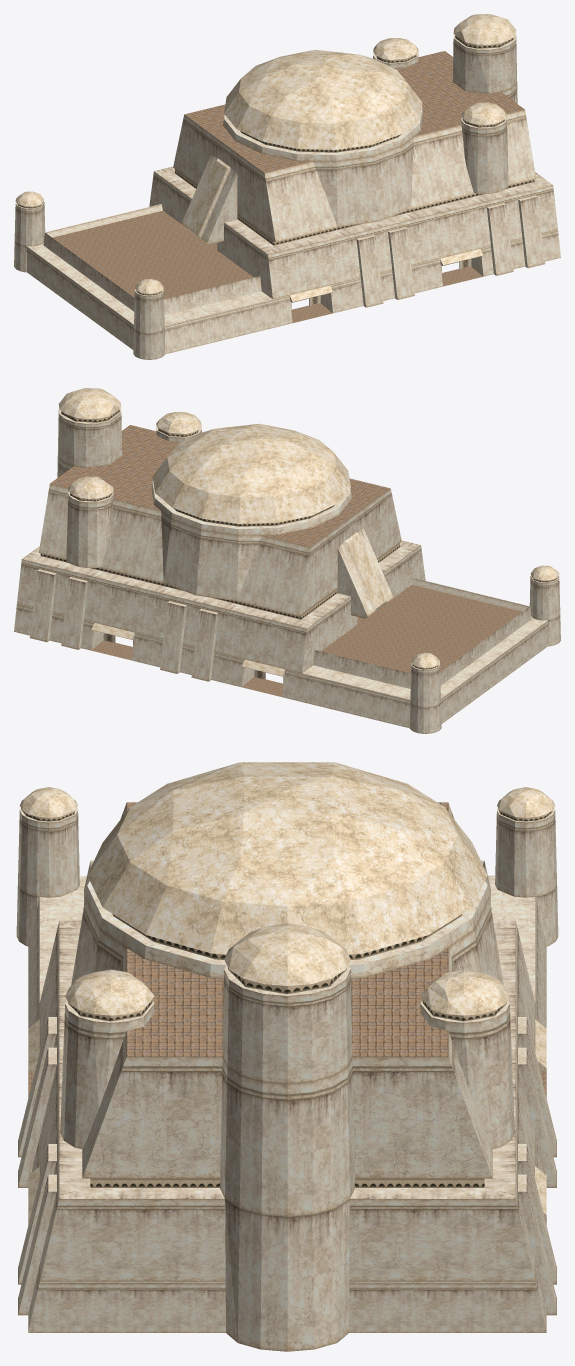
The model's file is mun_tato_hospital_s01_r0_mesh_l1.fbx.
3 views of the same model, one above another, from view 1: azimuth 30°, elevation 25°; view 2: azimuth 150°, elevation 25°; view 3: azimuth 270°, elevation 25° (orthographic). The views are drawn at different scales.
Parts seen in each view (by area): view 1: mesh_node; view 2: mesh_node; view 3: mesh_node.
Boxes of the visible parts, <box> form: mesh_node: <box>14,14,560,359</box>; mesh_node: <box>14,388,560,733</box>; mesh_node: <box>16,762,558,1351</box>.
Size of the model in its own units: 97.9 by 41.44 by 52.24.
